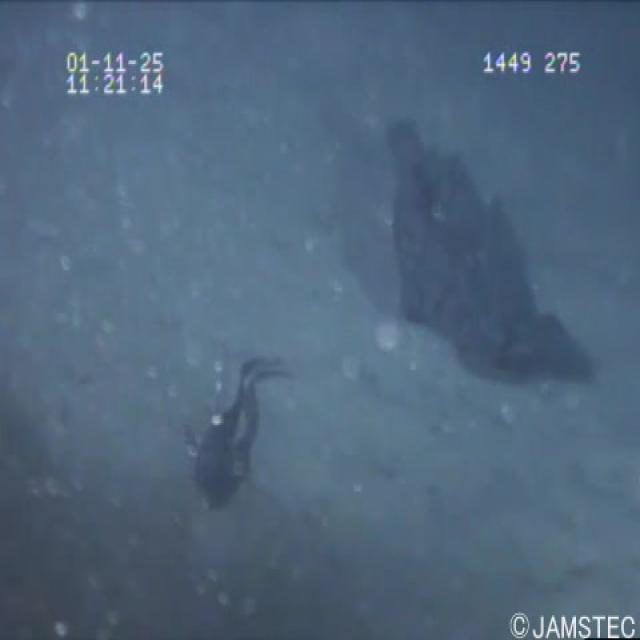plastic: (362, 86, 602, 420)
